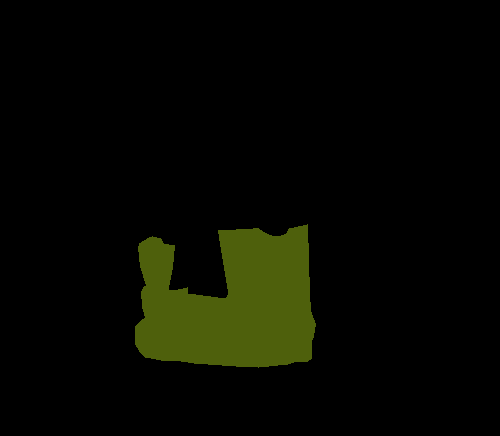Train: (135, 224, 315, 367)
